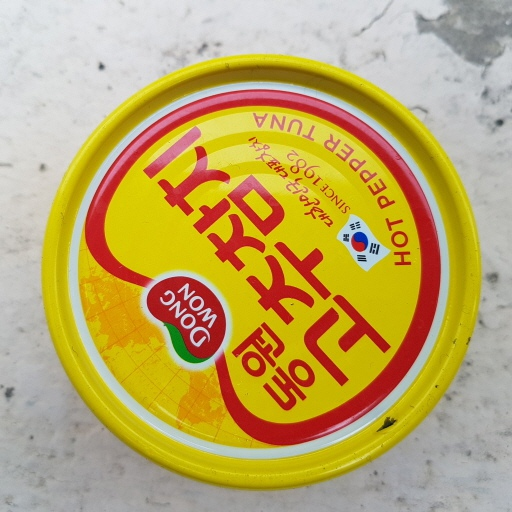Metal_1: (39, 53, 485, 488)
